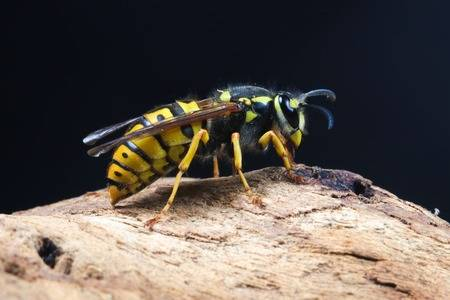chax: (82, 75, 345, 230)
